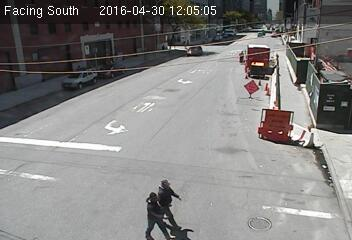neg: (269, 73, 295, 107), (226, 105, 249, 136), (118, 86, 130, 102), (142, 46, 151, 57), (105, 62, 111, 69)
pos: (131, 188, 169, 239), (145, 176, 182, 225), (236, 49, 247, 64)
